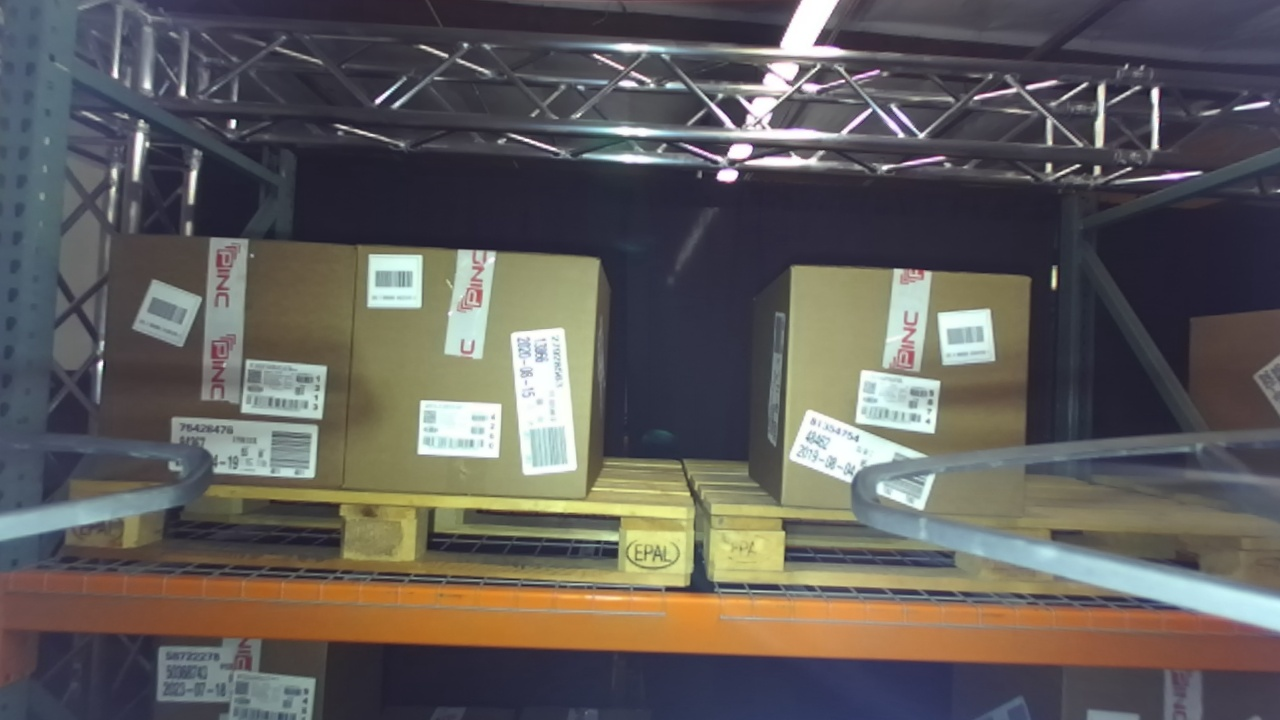box: (86, 212, 374, 524), (329, 223, 617, 525), (771, 244, 1047, 535)
